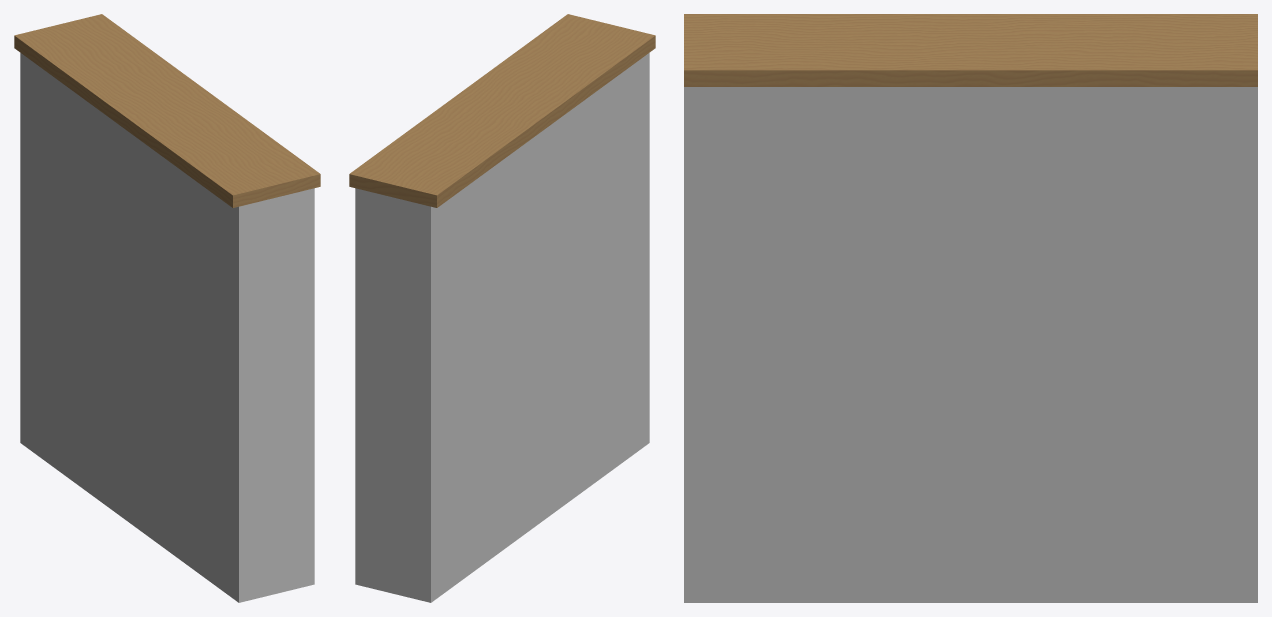
Rendered from Small_Wall_A_09.FBX.
The picture shows the model from 3 angles, left to right: view 1: azimuth 30°, elevation 25°; view 2: azimuth 150°, elevation 25°; view 3: azimuth 270°, elevation 25°; orthographic projection. The views are drawn at different scales.
Parts seen in each view (by area): view 1: Half_Wall_2p5m; view 2: Half_Wall_2p5m; view 3: Half_Wall_2p5m.
Part boxes in pixels (box(x1,y1,x2,y2)): Half_Wall_2p5m: box(14, 14, 320, 602); Half_Wall_2p5m: box(349, 14, 655, 602); Half_Wall_2p5m: box(684, 14, 1257, 602).
Bounding box in the file's own units: 2283 × 10157 × 9844.
